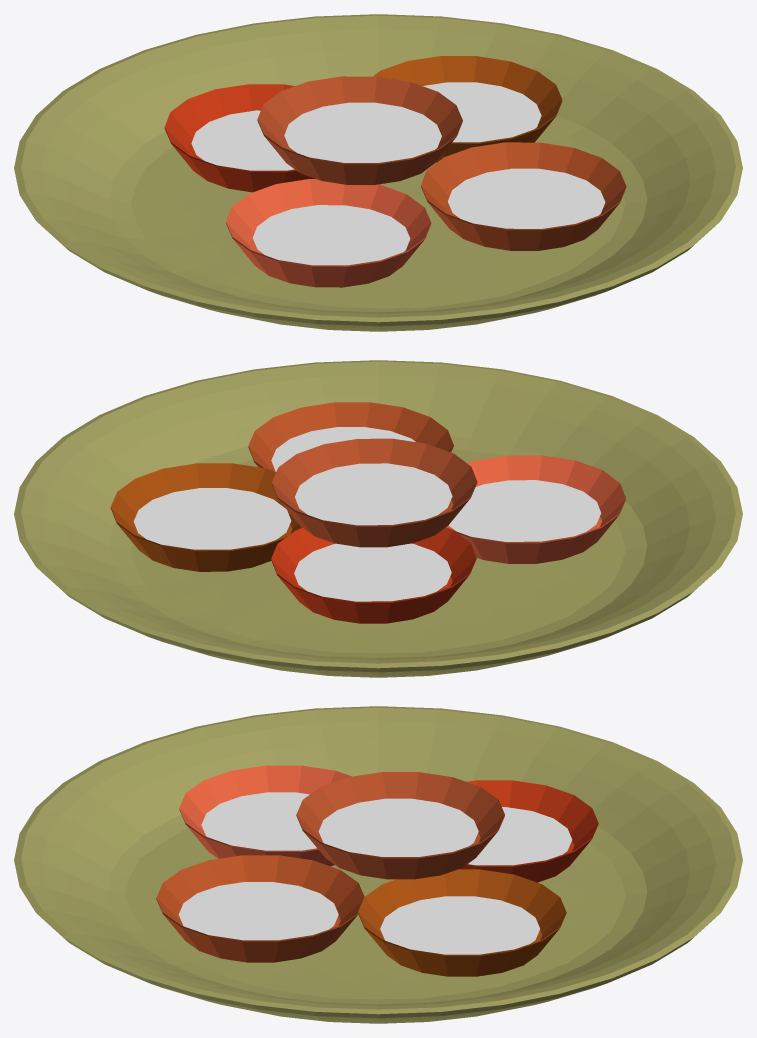
File: KUE APEM talipuk.fbx
3 views of the same model, one above another, from view 1: azimuth 30°, elevation 25°; view 2: azimuth 150°, elevation 25°; view 3: azimuth 270°, elevation 25° (orthographic).
Parts seen in each view (by area): view 1: Cylinder, Cylinder.005, Cylinder.011, Cylinder.003, Cylinder.004, Cylinder.006, Cylinder.012, Cylinder.007, Cylinder.001, Cylinder.008, Cylinder.002; view 2: Cylinder, Cylinder.011, Cylinder.007, Cylinder.012, Cylinder.008, Cylinder.002, Cylinder.003, Cylinder.004, Cylinder.001, Cylinder.005, Cylinder.006; view 3: Cylinder, Cylinder.011, Cylinder.005, Cylinder.007, Cylinder.008, Cylinder.006, Cylinder.012, Cylinder.003, Cylinder.001, Cylinder.004, Cylinder.002.
Part boxes in pixels (<box>): Cylinder: <box>14,14,742,331</box>; Cylinder.005: <box>421,142,626,250</box>; Cylinder.011: <box>257,76,462,184</box>; Cylinder.003: <box>226,179,431,287</box>; Cylinder.004: <box>253,205,410,265</box>; Cylinder.006: <box>447,168,605,228</box>; Cylinder.012: <box>284,102,441,162</box>; Cylinder.007: <box>373,56,562,162</box>; Cylinder.001: <box>164,84,315,192</box>; Cylinder.008: <box>422,82,541,142</box>; Cylinder.002: <box>191,110,294,170</box>; Cylinder: <box>14,360,742,677</box>; Cylinder.011: <box>272,438,477,547</box>; Cylinder.007: <box>110,463,302,571</box>; Cylinder.012: <box>295,463,452,525</box>; Cylinder.008: <box>133,488,291,549</box>; Cylinder.002: <box>294,543,451,601</box>; Cylinder.003: <box>446,455,625,563</box>; Cylinder.004: <box>448,480,600,541</box>; Cylinder.001: <box>271,527,476,623</box>; Cylinder.005: <box>248,402,453,471</box>; Cylinder.006: <box>271,427,415,471</box>; Cylinder: <box>14,706,742,1023</box>; Cylinder.011: <box>296,772,504,879</box>; Cylinder.005: <box>156,855,364,962</box>; Cylinder.007: <box>358,869,566,976</box>; Cylinder.008: <box>380,896,539,954</box>; Cylinder.006: <box>178,882,338,940</box>; Cylinder.012: <box>318,798,478,856</box>; Cylinder.003: <box>179,765,351,866</box>; Cylinder.001: <box>459,780,598,882</box>; Cylinder.004: <box>201,792,316,850</box>; Cylinder.002: <box>468,807,572,865</box>.
Bounding box in the file's own units: 231 × 33.85 × 231.
